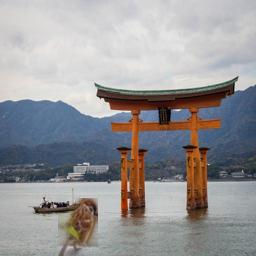Sparrow: (58, 198, 98, 256)
